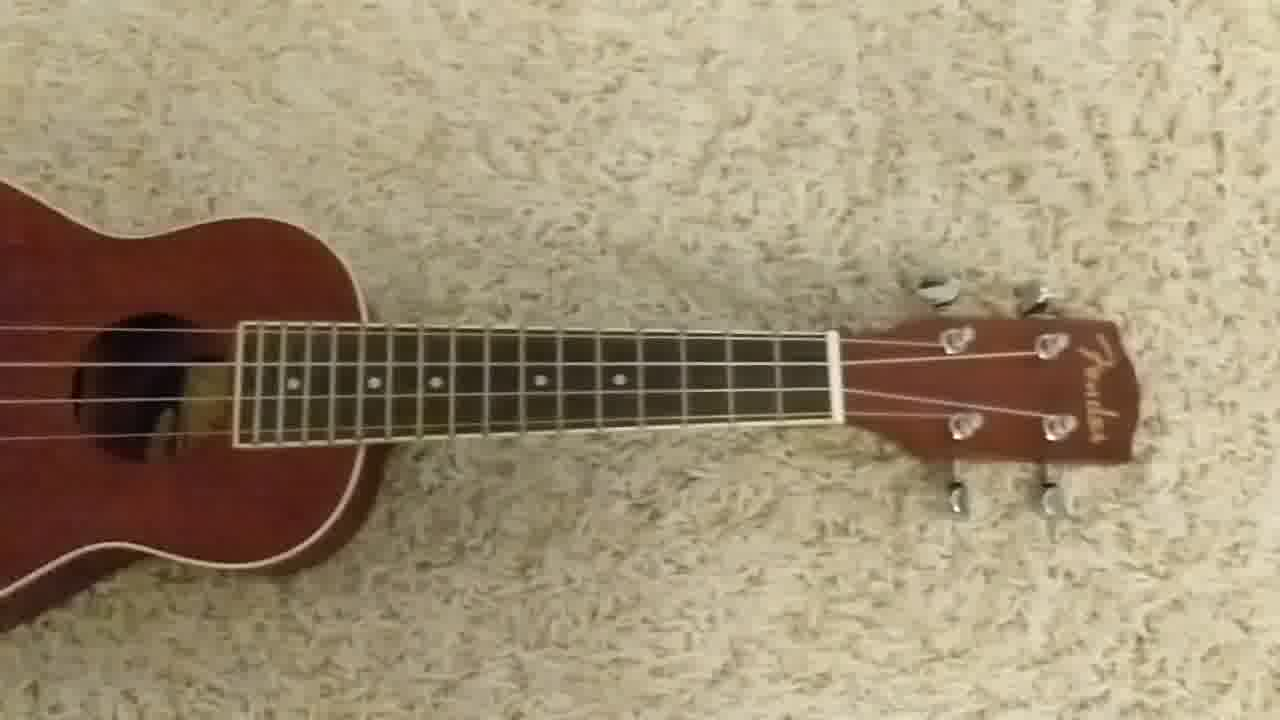Body: (1, 179, 390, 630)
Headstock: (842, 268, 1145, 527)
